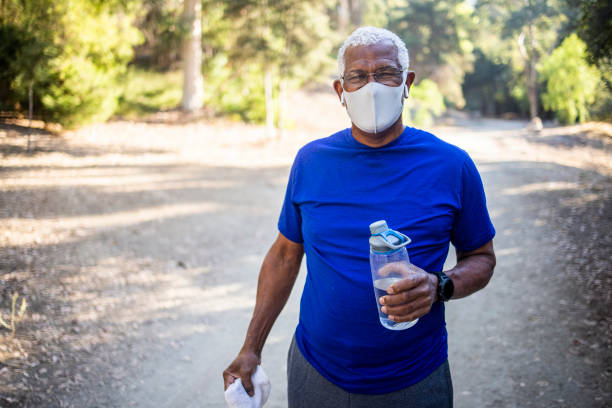with mask: (335, 33, 413, 135)
